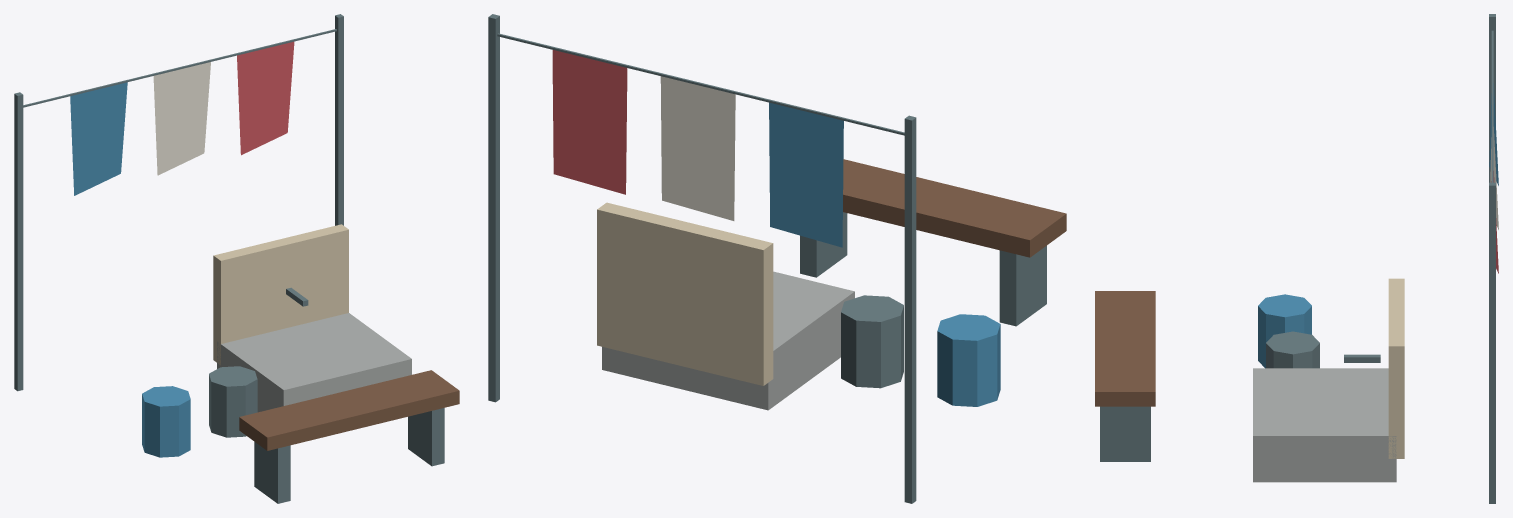
3 views of the same model, side by side, from view 1: azimuth 30°, elevation 25°; view 2: azimuth 150°, elevation 25°; view 3: azimuth 270°, elevation 25° (orthographic). The views are drawn at different scales.
Parts seen in each view (by area): view 1: chawl_props_wash_back, chawl_props_wash_platform, chawl_props_bench_seat, chawl_props_laundry_2, chawl_props_laundry_0, chawl_props_laundry_1, chawl_props_bucket_0, chawl_props_laundry_post_0, chawl_props_bucket_1, chawl_props_laundry_post_1, chawl_props_bench_leg_0, chawl_props_bench_leg_1 (+1 smaller); view 2: chawl_props_wash_back, chawl_props_wash_platform, chawl_props_bench_seat, chawl_props_laundry_1, chawl_props_laundry_2, chawl_props_laundry_0, chawl_props_bucket_0, chawl_props_bucket_1, chawl_props_laundry_post_0, chawl_props_laundry_post_1, chawl_props_bench_leg_0, chawl_props_laundry_line (+1 smaller); view 3: chawl_props_wash_platform, chawl_props_bench_seat, chawl_props_wash_back, chawl_props_bench_leg_1, chawl_props_laundry_post_1, chawl_props_bucket_0, chawl_props_bucket_1, chawl_props_laundry_post_0, chawl_props_laundry_line.
Part boxes in pixels (left/top/right/bottom): chawl_props_wash_back: left=213, top=224, right=348, bottom=365; chawl_props_wash_platform: left=217, top=313, right=411, bottom=412; chawl_props_bench_seat: left=239, top=370, right=459, bottom=450; chawl_props_laundry_2: left=237, top=41, right=294, bottom=155; chawl_props_laundry_0: left=70, top=82, right=127, bottom=195; chawl_props_laundry_1: left=153, top=62, right=210, bottom=175; chawl_props_bucket_0: left=142, top=386, right=190, bottom=457; chawl_props_laundry_post_0: left=14, top=92, right=23, bottom=391; chawl_props_bucket_1: left=209, top=366, right=257, bottom=437; chawl_props_laundry_post_1: left=335, top=14, right=343, bottom=225; chawl_props_bench_leg_0: left=254, top=442, right=290, bottom=503; chawl_props_bench_leg_1: left=408, top=408, right=444, bottom=466; chawl_props_wash_back: left=597, top=202, right=773, bottom=385; chawl_props_wash_platform: left=602, top=271, right=854, bottom=410; chawl_props_bench_seat: left=843, top=159, right=1066, bottom=257; chawl_props_laundry_1: left=660, top=76, right=735, bottom=220; chawl_props_laundry_2: left=552, top=50, right=627, bottom=194; chawl_props_laundry_0: left=769, top=102, right=843, bottom=247; chawl_props_bucket_0: left=937, top=314, right=1000, bottom=406; chawl_props_bucket_1: left=841, top=295, right=903, bottom=388; chawl_props_laundry_post_0: left=904, top=115, right=916, bottom=503; chawl_props_laundry_post_1: left=488, top=14, right=499, bottom=402; chawl_props_bench_leg_0: left=999, top=245, right=1046, bottom=326; chawl_props_laundry_line: left=497, top=33, right=904, bottom=135; chawl_props_wash_platform: left=1253, top=368, right=1396, bottom=482; chawl_props_bench_seat: left=1095, top=291, right=1155, bottom=406; chawl_props_wash_back: left=1388, top=278, right=1404, bottom=458; chawl_props_bench_leg_1: left=1100, top=406, right=1150, bottom=461; chawl_props_laundry_post_1: left=1489, top=182, right=1495, bottom=503; chawl_props_bucket_0: left=1258, top=294, right=1311, bottom=368; chawl_props_bucket_1: left=1266, top=331, right=1319, bottom=368; chawl_props_laundry_post_0: left=1489, top=14, right=1495, bottom=182; chawl_props_laundry_line: left=1491, top=30, right=1493, bottom=182.
Size of the model in its own units: 2.54 by 2.2 by 2.53.
